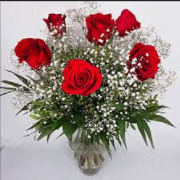RedRose: (60, 56, 107, 98), (14, 31, 54, 73), (128, 41, 162, 84), (83, 10, 116, 49), (113, 3, 142, 37)
